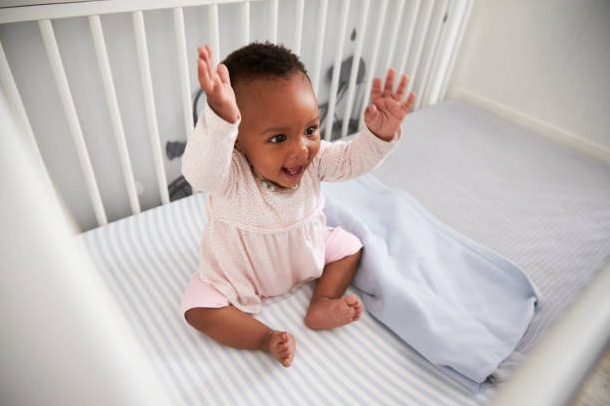baby: (182, 43, 413, 366)
crib: (0, 0, 609, 403)
